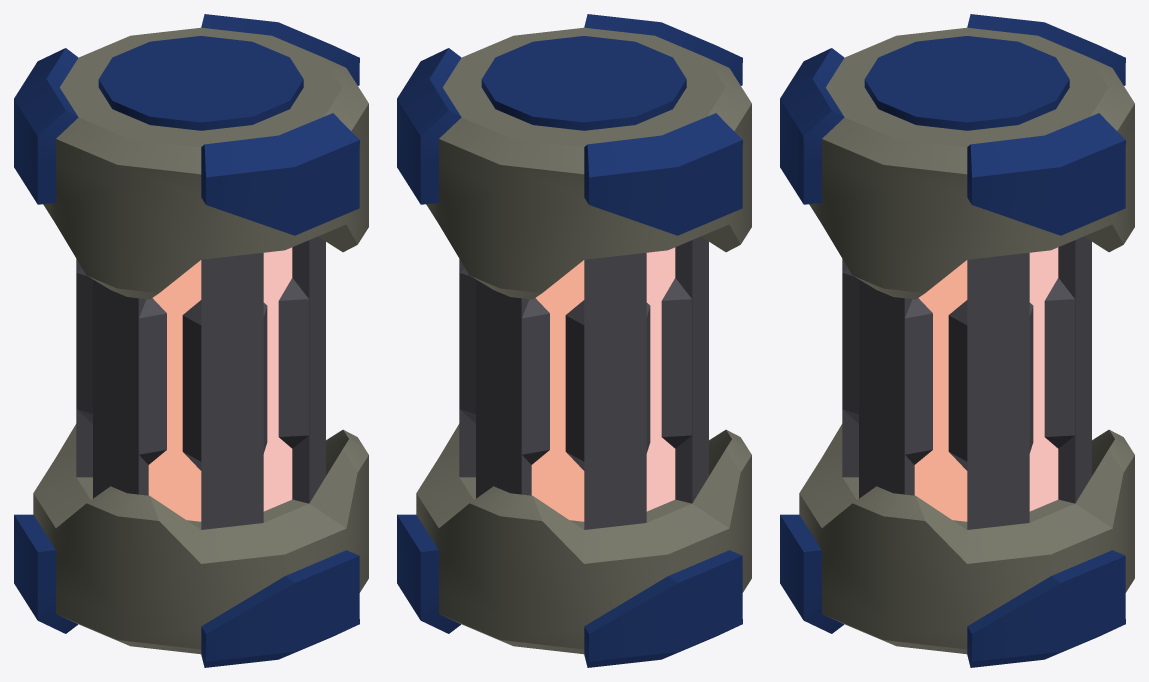
File: LPSciFi_FuelCell.fbx
3 views of the same model, side by side, from view 1: azimuth 30°, elevation 25°; view 2: azimuth 150°, elevation 25°; view 3: azimuth 270°, elevation 25° (orthographic).
Parts seen in each view (by area): view 1: FuelCell; view 2: FuelCell; view 3: FuelCell.
Part boxes in pixels (x1,y1,x2,y2): FuelCell: (14, 14, 368, 667); FuelCell: (397, 14, 751, 667); FuelCell: (780, 14, 1134, 667).
Size of the model in its own units: 106 by 165 by 101.
